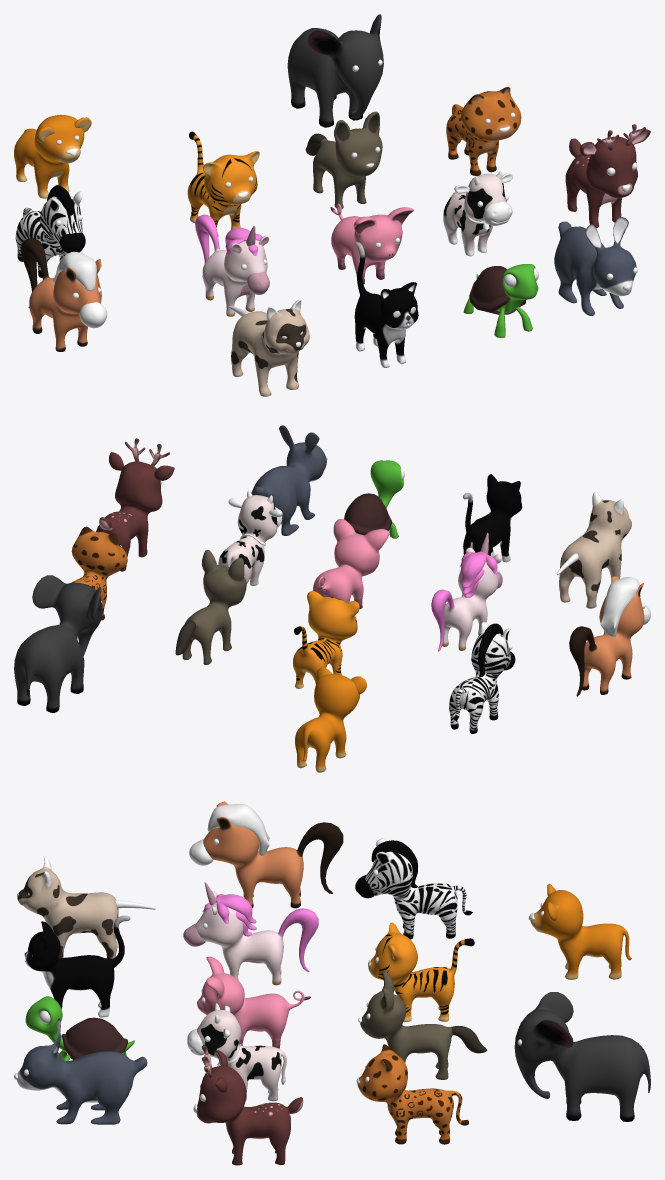
The model's file is Animal_Pack.glb.
The picture shows the model from 3 angles, top to bottom: view 1: azimuth 30°, elevation 25°; view 2: azimuth 150°, elevation 25°; view 3: azimuth 270°, elevation 25°; orthographic projection. The views are drawn at different scales.
Visible parts, largest first — view 1: unnamed (×17); view 2: unnamed (×16); view 3: unnamed (×16).
Boxes of the visible parts, x1,y1,x2,y2 form: unnamed (×17): (14, 14, 650, 396); unnamed (×16): (14, 425, 650, 772); unnamed (×16): (16, 801, 650, 1165).
Bounding box in the file's own units: 9.46 × 1.69 × 9.01.
Materials: 16 (15 with a texture image).
